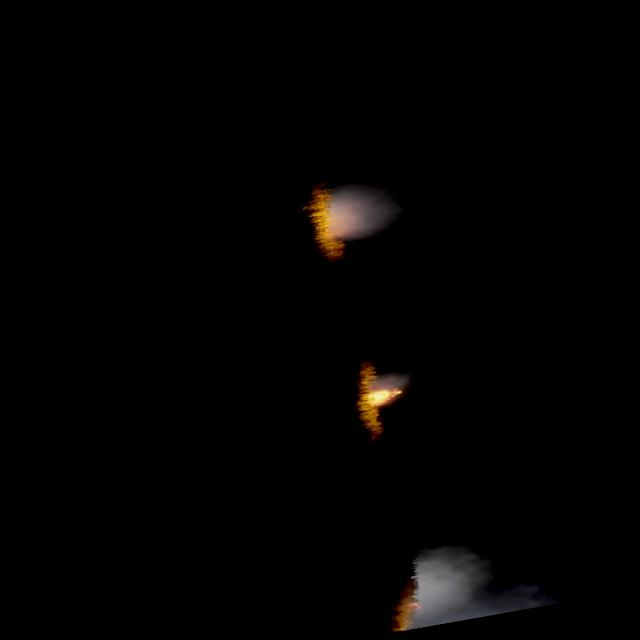fire: (372, 388, 399, 404)
smoke: (398, 516, 548, 628), (321, 180, 396, 246), (365, 373, 404, 399)
